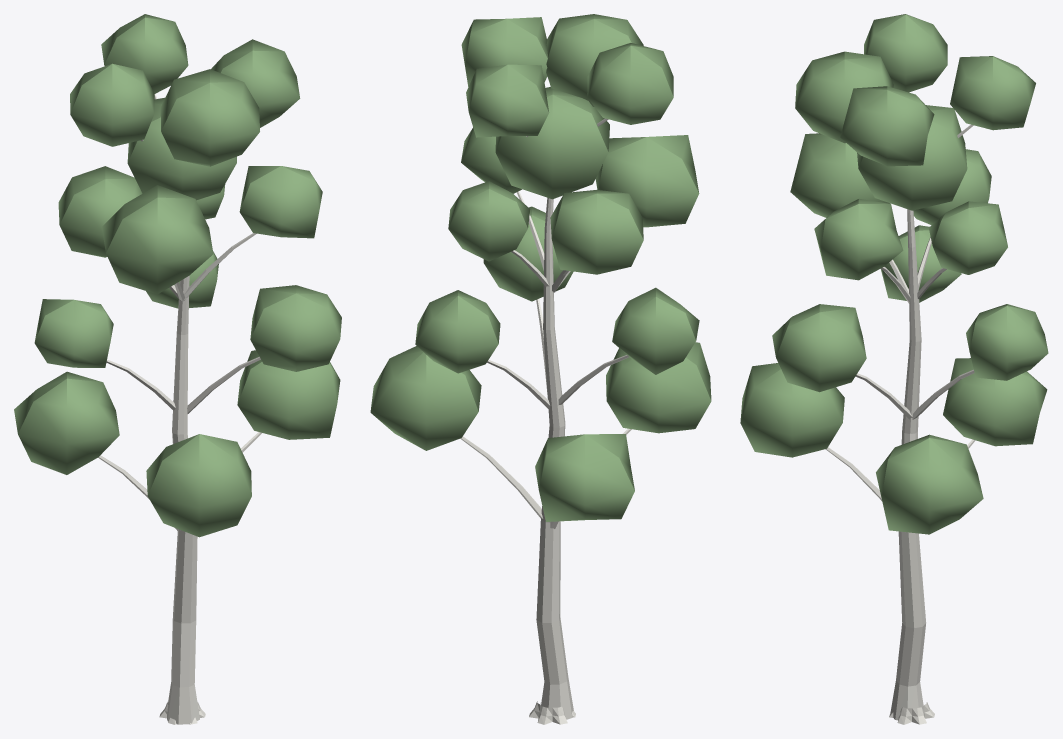
Rendered from dense-temperate-forest-flora-hornbeam-mature-b28d1f49__28339.glb.
The picture shows the model from 3 angles, left to right: view 1: azimuth 30°, elevation 25°; view 2: azimuth 150°, elevation 25°; view 3: azimuth 270°, elevation 25°; orthographic projection. The views are drawn at different scales.
Visible parts, largest first — view 1: hornbeam-mature; view 2: hornbeam-mature; view 3: hornbeam-mature.
Boxes of the visible parts, box(x1,y1,x2,y2) form: hornbeam-mature: box(14, 14, 341, 724); hornbeam-mature: box(370, 14, 711, 724); hornbeam-mature: box(740, 14, 1048, 724).
Size of the model in its own units: 9.1 by 18.8 by 7.89.
